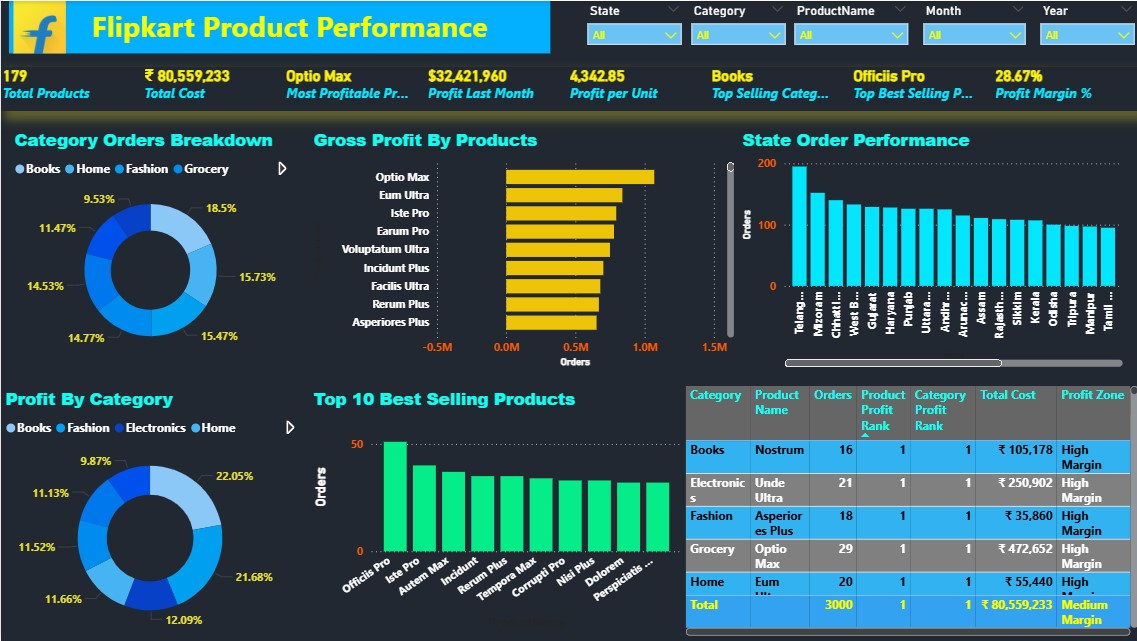

The page's visual inventory and layout, read from the dashboard file:
{"tool":"powerbi","page":{"name":"Product Performance","canvas":[1280,720],"ordinal":1},"visuals":[{"type":"textbox","box":[8.9,0,608.9,58.7],"z":0},{"type":"multiRowCard","fields":{"Values":["products.ProductName","products.Total Cost","products.Most Profitable Product","products.Profit Last Month","products.Profit per Unit","products.Top Selling Category","products.Top Best Selling Product","products.Profit Margin %"]},"box":[0,74.7,1280,49.8],"z":1000},{"type":"image","box":[0,0,86.2,58.7],"z":2000},{"type":"tableEx","fields":{"Values":["products.Category","products.ProductName","order_details.OrderID","products.Product Profit Rank","products.Category Profit Rank","products.Total Cost","products.Profit Zone"]},"box":[769.9,433.4,510.1,286.5],"z":3000},{"type":"columnChart","title":" Top 10 Best Selling Products","fields":{"Category":["products.ProductName"],"Y":["CountNonNull(order_details.OrderID)"]},"box":[346.1,433.4,423.8,279],"z":4000},{"type":"donutChart","title":"Category Orders Breakdown ","fields":{"Category":["products.Category"],"Y":["CountNonNull(orders.OrderID)"]},"box":[9.6,141.6,316.3,266.2],"z":5000},{"type":"barChart","title":"Gross Profit By Products","fields":{"Category":["products.ProductName"],"Y":["products.Gross Profit"]},"box":[346.1,141.6,483.5,274.7],"z":6000},{"type":"donutChart","title":"Profit By Category ","fields":{"Category":["products.Category"],"Y":["products.Gross Profit"]},"box":[0,433.4,335.4,286.5],"z":7000},{"type":"clusteredColumnChart","title":"State Order Performance","fields":{"Category":["customers.State"],"Y":["CountNonNull(orders.OrderID)"]},"box":[829.6,141.6,437.7,274.7],"z":8000},{"type":"slicer","fields":{"Values":["customers.State"]},"box":[654.2,2.7,115.6,52.4],"z":9000},{"type":"slicer","fields":{"Values":["products.Category"]},"box":[771.6,2.7,115.6,52.4],"z":10000},{"type":"slicer","fields":{"Values":["products.ProductName"]},"box":[887.1,2.7,137.8,52.4],"z":11000},{"type":"slicer","fields":{"Values":["orders.OrderYear"]},"box":[1164.4,2.7,115.6,52.4],"z":12000},{"type":"slicer","fields":{"Values":["orders.Month"]},"box":[1032.9,1.8,125.3,55.1],"z":13000}]}

Visuals, with their boxes in screenshot pixels (x1, y1, x2, y2), scaled from the page's 1280x720 canvas onto the 1137x641 screenshot:
textbox: box=[8, 0, 549, 52]
multiRowCard - products.ProductName x products.Total Cost: box=[0, 67, 1136, 111]
image: box=[0, 0, 77, 52]
tableEx - products.Category x products.ProductName: box=[684, 386, 1136, 640]
" Top 10 Best Selling Products" columnChart: box=[307, 386, 684, 634]
"Category Orders Breakdown " donutChart: box=[9, 126, 289, 363]
"Gross Profit By Products" barChart: box=[307, 126, 737, 371]
"Profit By Category " donutChart: box=[0, 386, 298, 640]
"State Order Performance" clusteredColumnChart: box=[737, 126, 1126, 371]
slicer - customers.State: box=[581, 2, 684, 49]
slicer - products.Category: box=[685, 2, 788, 49]
slicer - products.ProductName: box=[788, 2, 910, 49]
slicer - orders.OrderYear: box=[1034, 2, 1136, 49]
slicer - orders.Month: box=[918, 2, 1029, 51]
